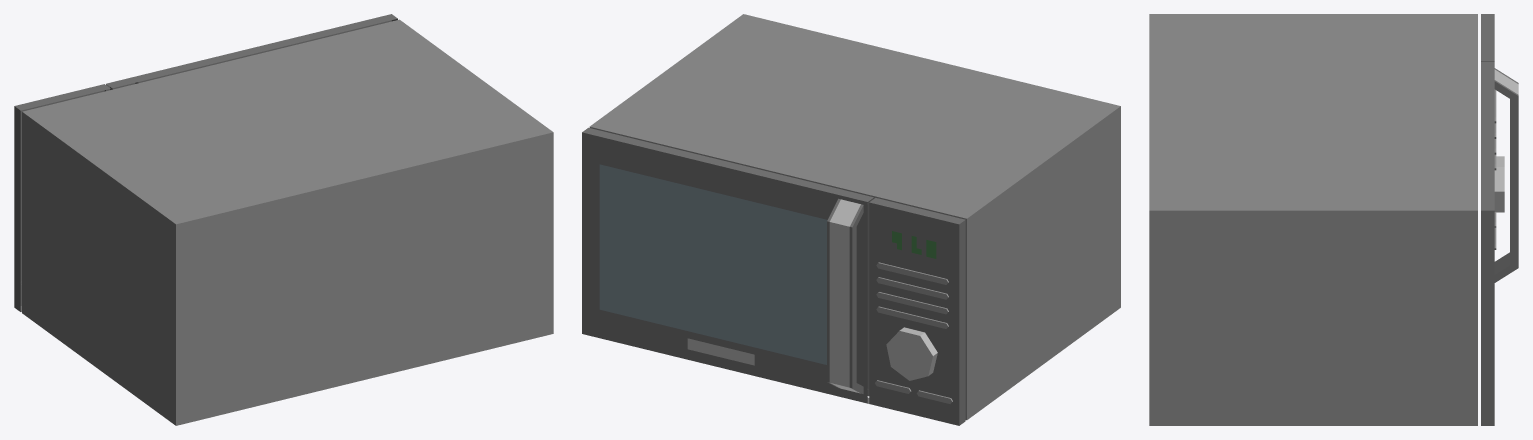
File: microwaves.glb
The picture shows the model from 3 angles, left to right: view 1: azimuth 30°, elevation 25°; view 2: azimuth 150°, elevation 25°; view 3: azimuth 270°, elevation 25°; orthographic projection. The views are drawn at different scales.
Visible parts, largest first — view 1: New_Game_Object_mat0_0.002; view 2: New_Game_Object_mat0_0.002; view 3: New_Game_Object_mat0_0.002.
Boxes of the visible parts, x1,y1,x2,y2 form: New_Game_Object_mat0_0.002: (14,14,553,425); New_Game_Object_mat0_0.002: (582,14,1120,425); New_Game_Object_mat0_0.002: (1149,14,1518,425).
Size of the model in its own units: 0.4312 by 0.22 by 0.3422.
